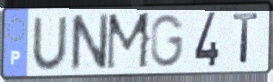4: (192, 9, 221, 69)
G: (149, 12, 187, 69)
M: (104, 11, 154, 73)
N: (69, 11, 111, 74)
T: (231, 11, 261, 66)
U: (30, 14, 69, 72)
